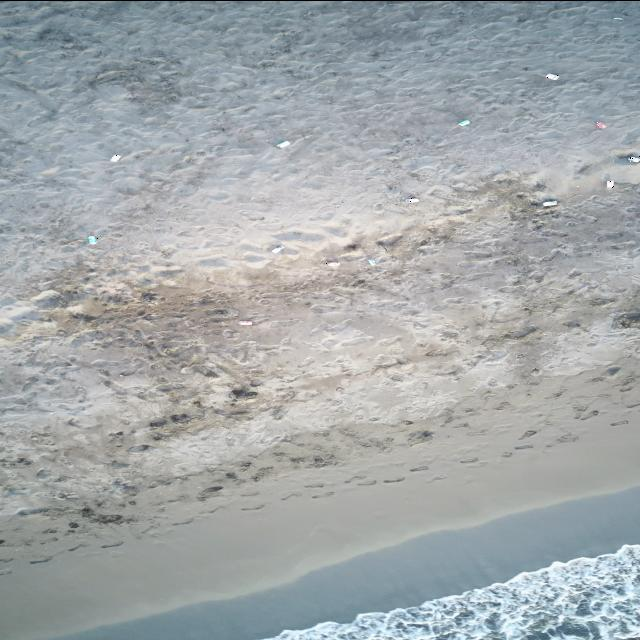Garbage: (275, 140, 289, 148), (404, 196, 419, 203), (324, 260, 339, 267), (627, 155, 639, 163), (544, 72, 557, 79), (595, 120, 606, 128), (272, 244, 283, 252), (543, 200, 556, 206), (110, 154, 120, 161), (456, 120, 470, 125), (88, 235, 96, 243), (239, 320, 252, 324), (367, 258, 375, 264), (606, 180, 612, 187), (612, 16, 622, 20)
